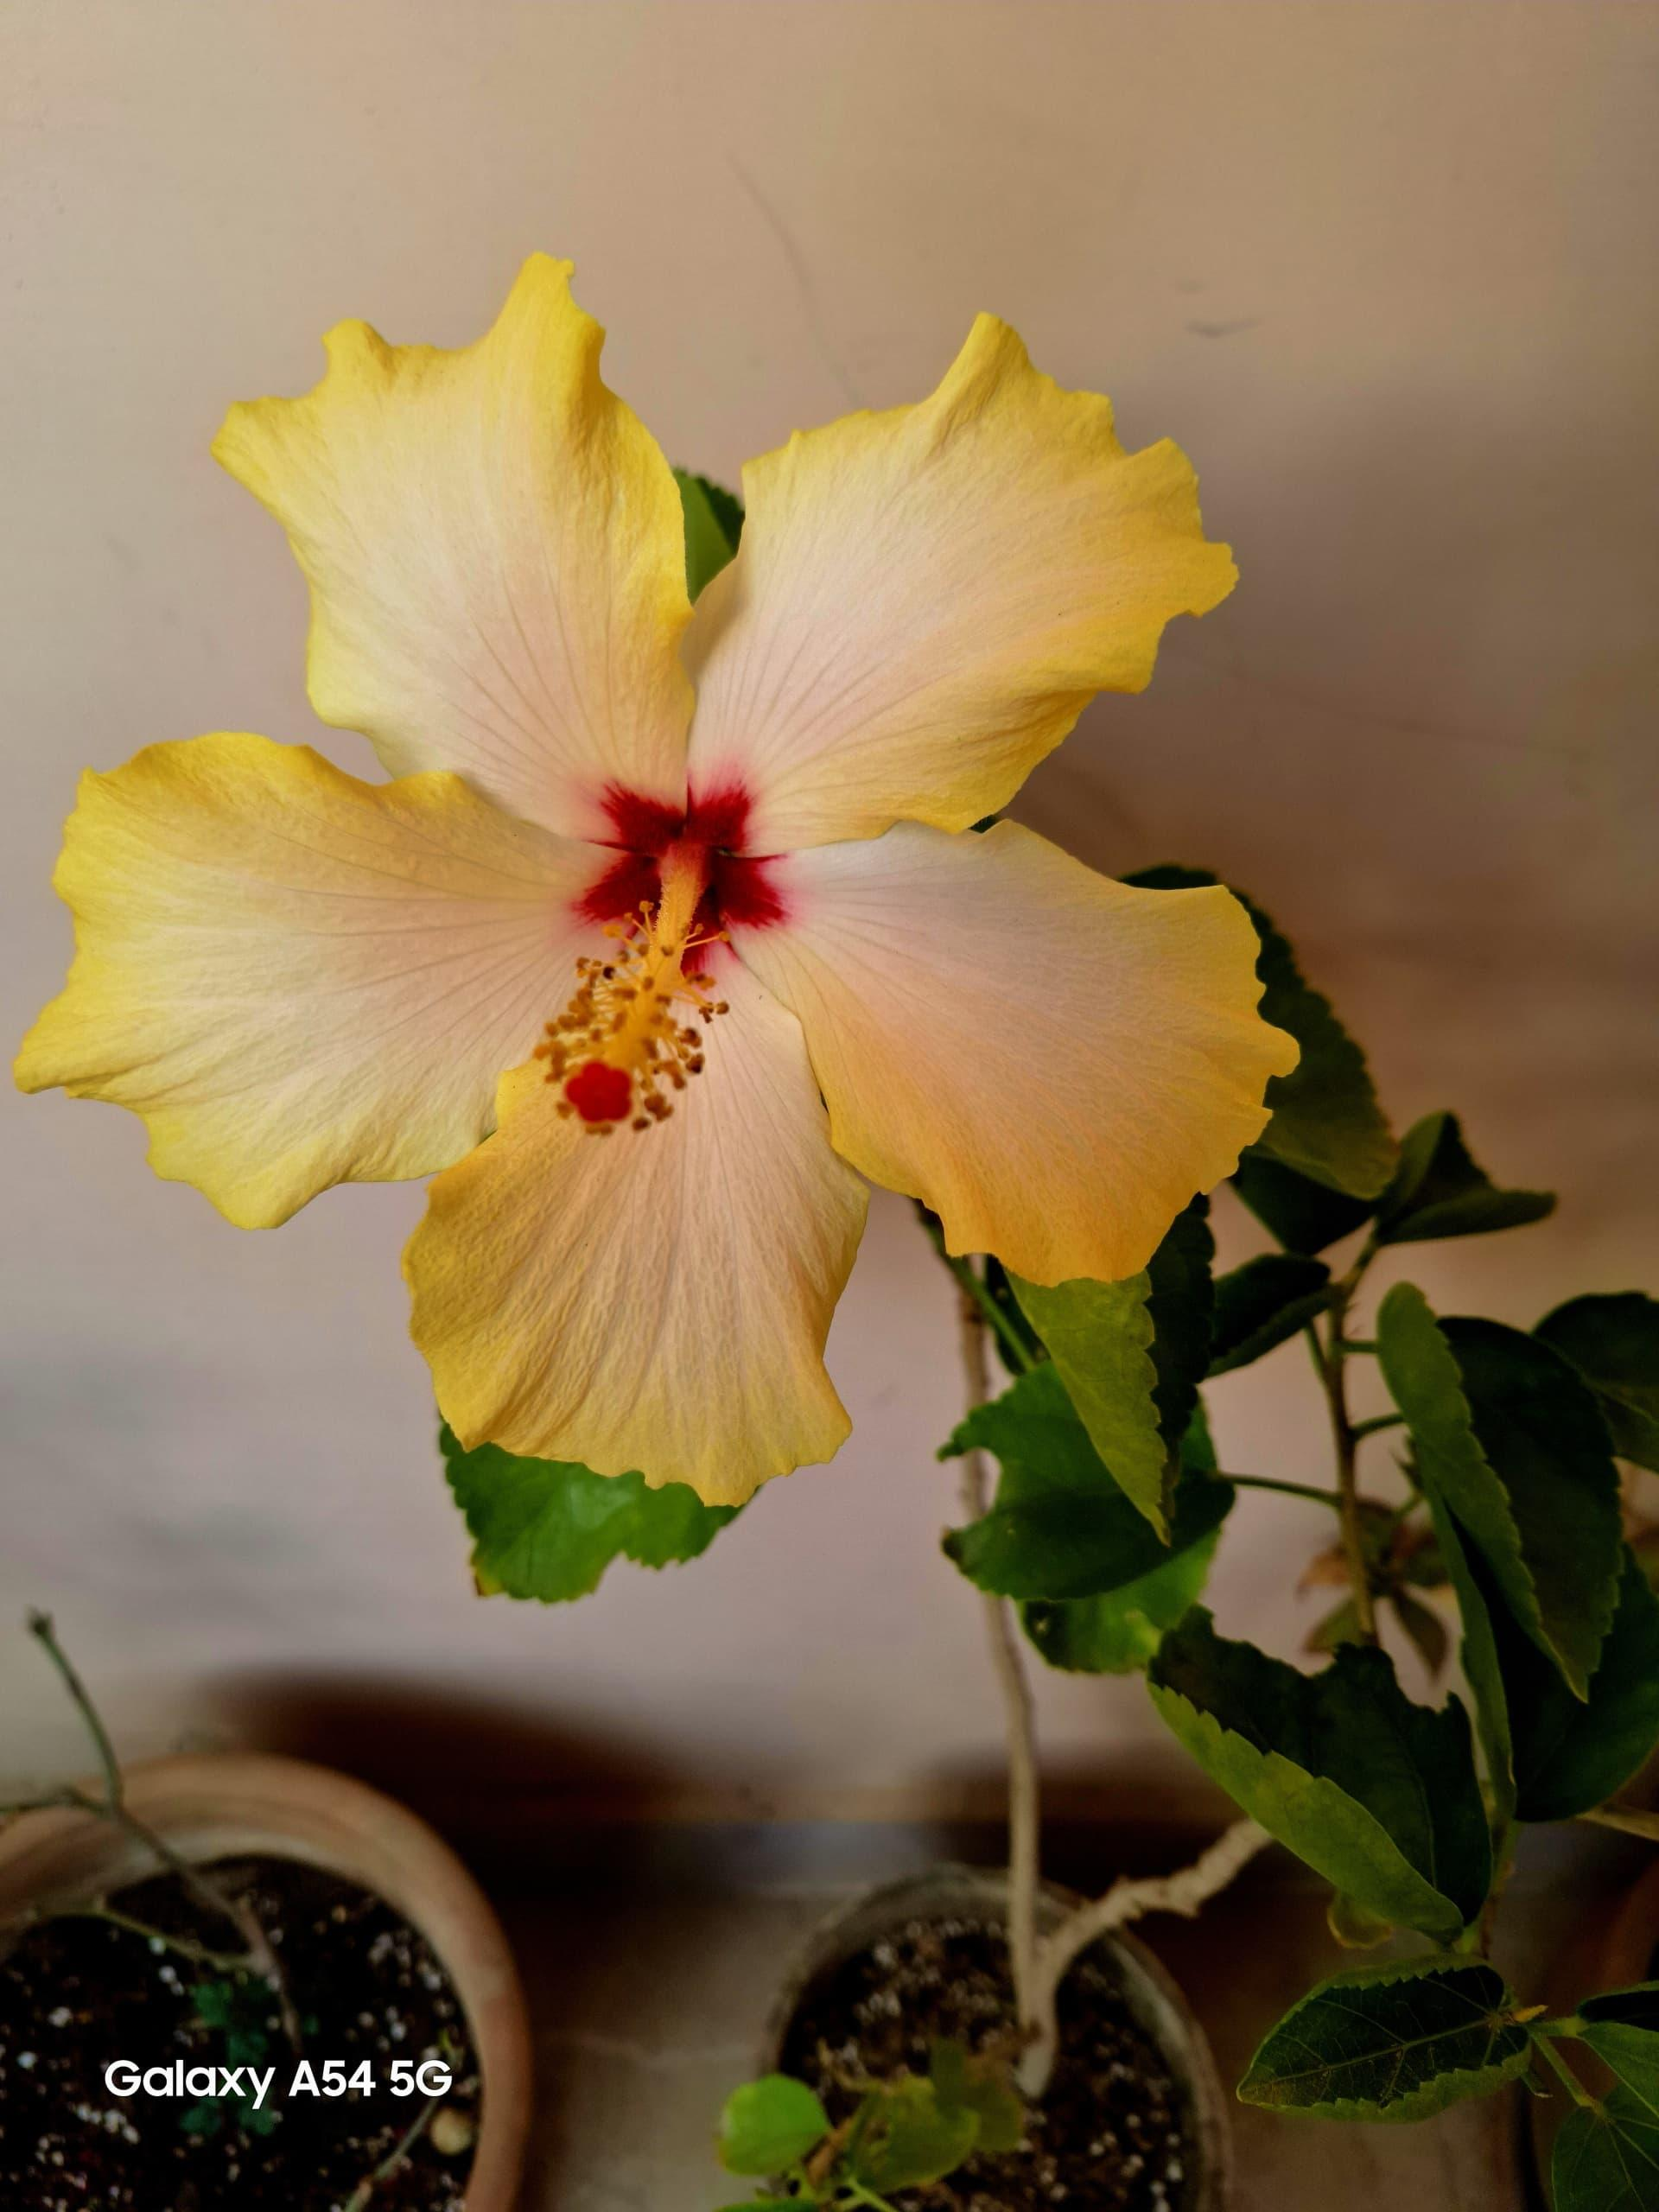non-mango: (14, 247, 1302, 1514)
